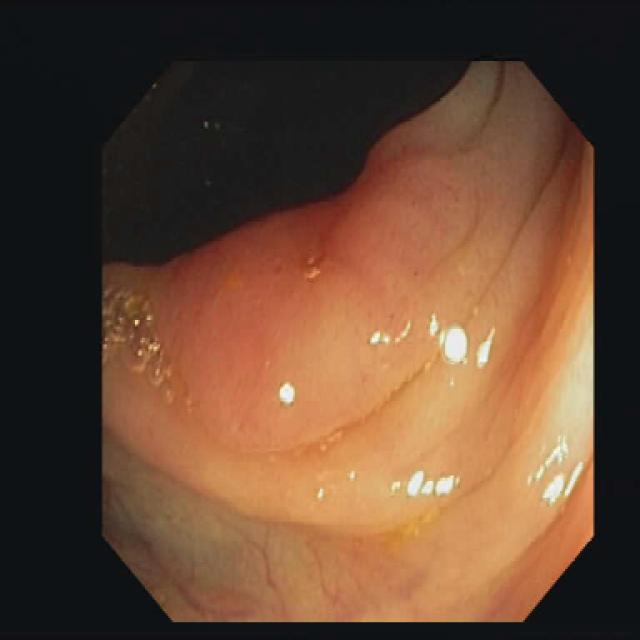tumor: (138, 62, 498, 452)
